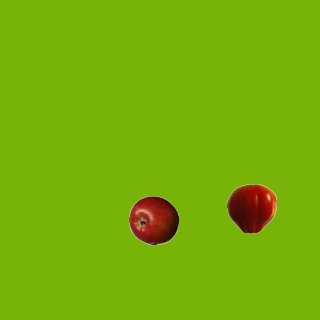Apple Braeburn: (128, 195, 178, 245)
Tomato 1: (226, 183, 276, 233)
